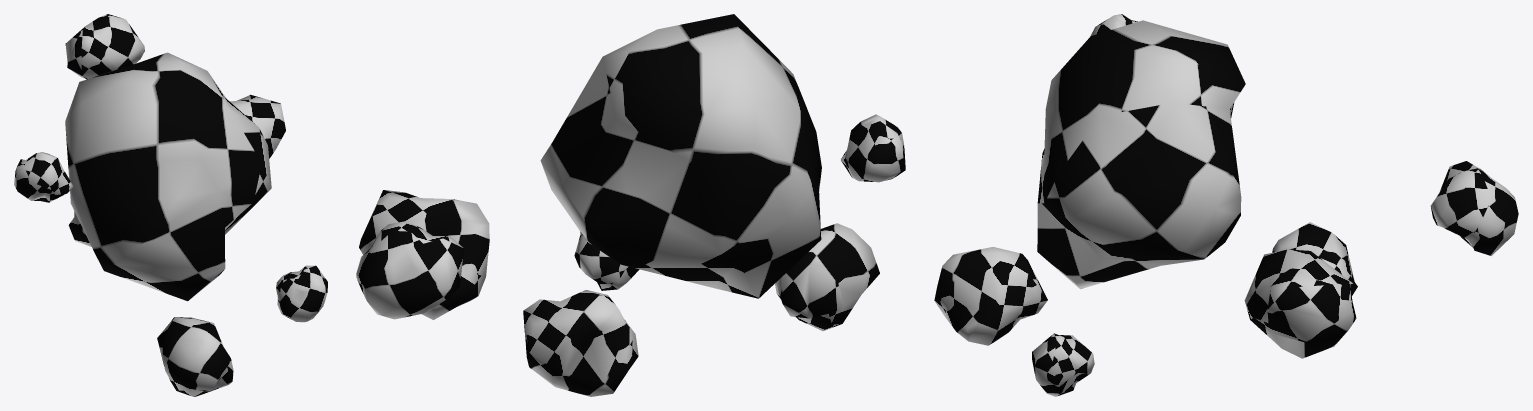
The model's file is cluster_mars_small_asteroid01.obj.
The picture shows the model from 3 angles, left to right: view 1: azimuth 30°, elevation 25°; view 2: azimuth 150°, elevation 25°; view 3: azimuth 270°, elevation 25°; orthographic projection. The views are drawn at different scales.
Parts seen in each view (by area): view 1: asset_mmo_asteroid_b; view 2: asset_mmo_asteroid_b; view 3: asset_mmo_asteroid_b.
Boxes of the visible parts, left/top/right/bottom form: asset_mmo_asteroid_b: left=14, top=14, right=327, bottom=396; asset_mmo_asteroid_b: left=356, top=14, right=905, bottom=396; asset_mmo_asteroid_b: left=934, top=14, right=1518, bottom=396.
Size of the model in its own units: 471 by 359 by 602.
1 material, 1 textured.
